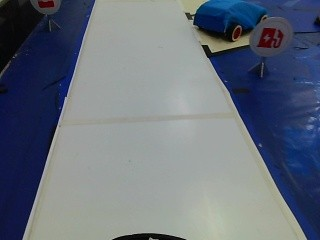battery: (257, 25, 284, 53)
